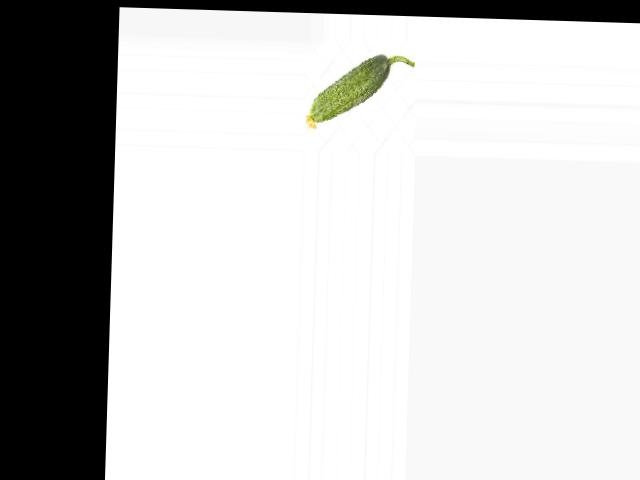cucumber: (304, 51, 413, 133)
